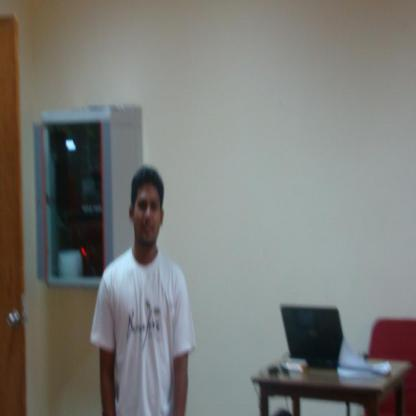board: (282, 307, 342, 370)
